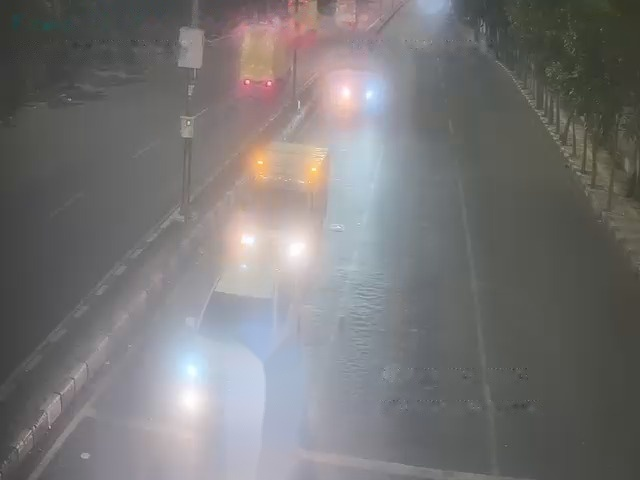Mobil: (185, 255, 287, 398), (234, 171, 326, 277), (333, 62, 379, 113)
Truk: (239, 20, 285, 95)
